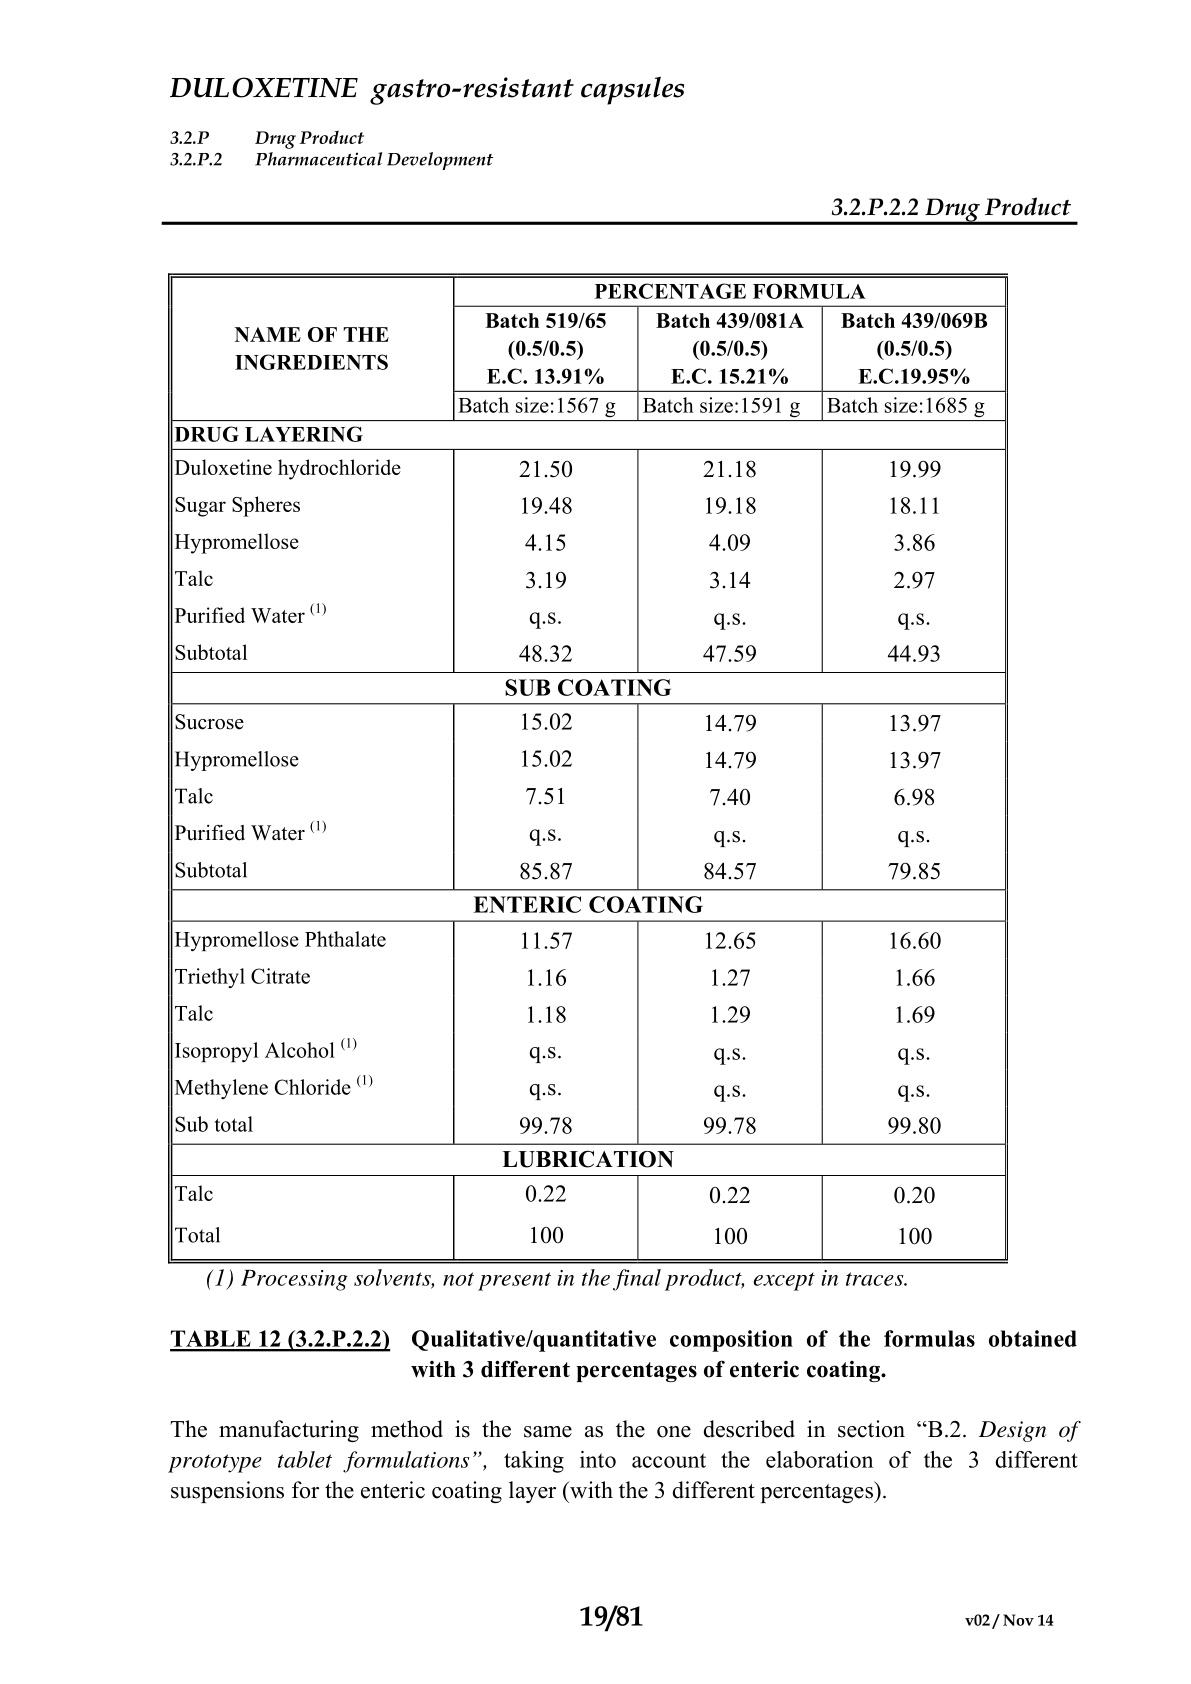merged_cells: (166, 273, 1009, 1265)
